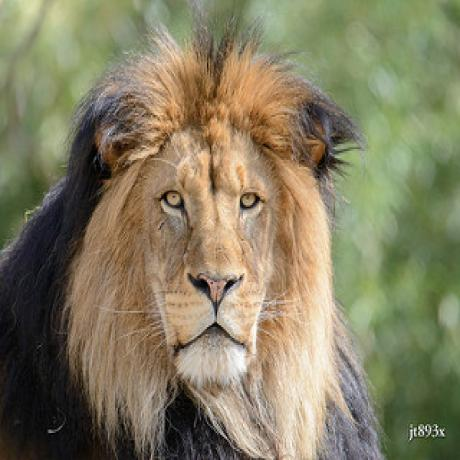Lion: (0, 15, 390, 460)
